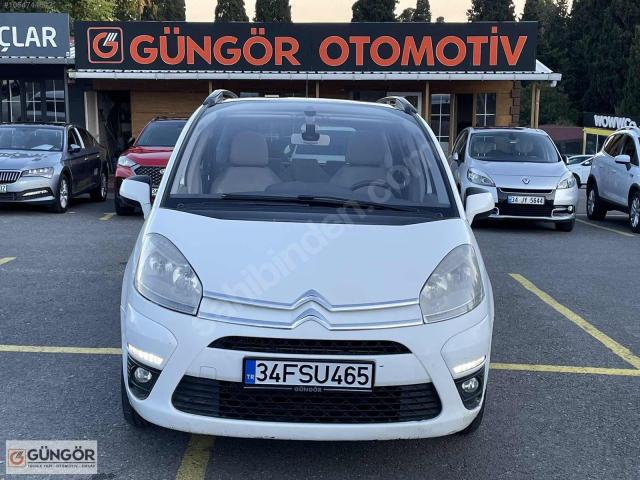plaka: (244, 358, 374, 390), (508, 196, 544, 205)
